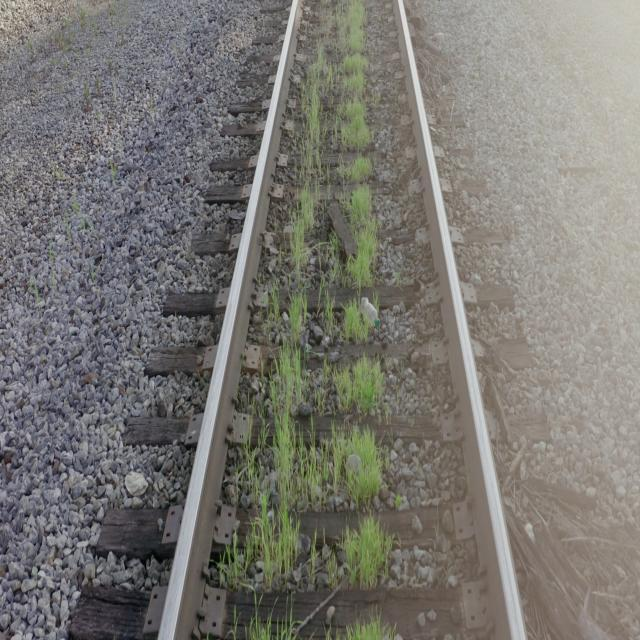Plant: (222, 293, 391, 589), (290, 0, 379, 287), (311, 356, 382, 416), (320, 300, 370, 342), (249, 607, 291, 638), (345, 616, 396, 640), (348, 620, 394, 640), (244, 447, 260, 480)
